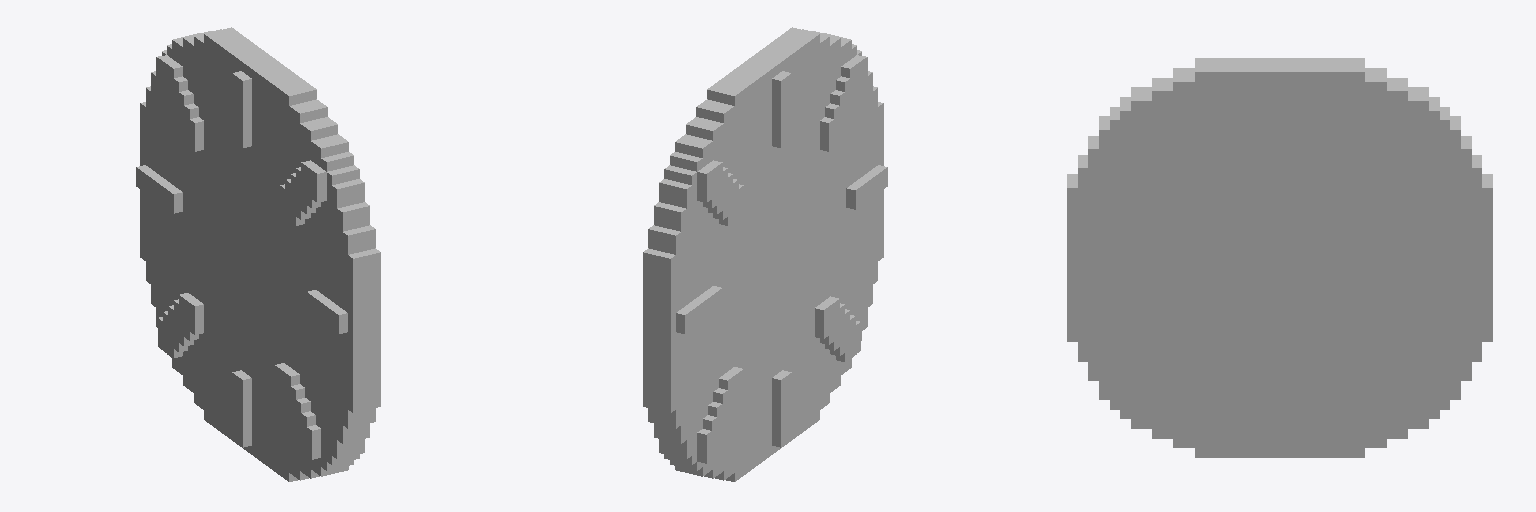
File: chem4.obj
3 renders of one model, left to right at view 1: azimuth 30°, elevation 25°; view 2: azimuth 150°, elevation 25°; view 3: azimuth 270°, elevation 25°, orthographic.
Visible parts, largest first — view 1: object 1; view 2: object 1; view 3: object 1.
Boxes of the visible parts, x1,y1,x2,y2 form: object 1: [136, 27, 380, 481]; object 1: [643, 27, 887, 481]; object 1: [1067, 58, 1492, 457].
Bounding box in the file's own units: 0.4 × 4 × 4.